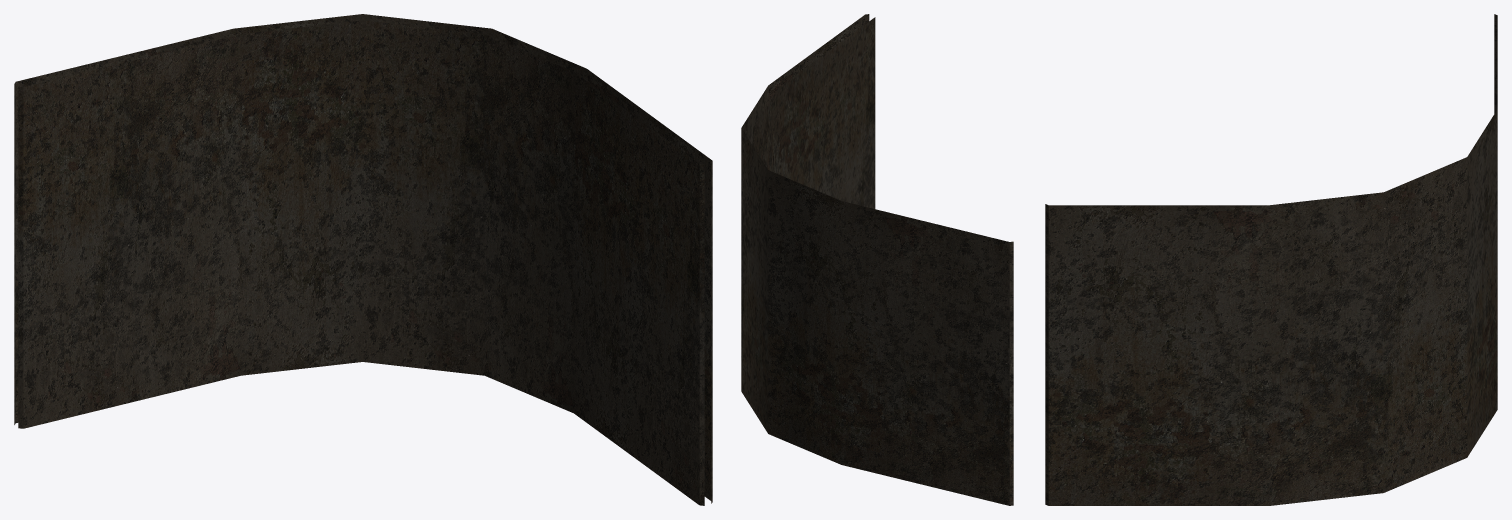
Rendered from wall_1_round.glb.
3 views of the same model, side by side, from view 1: azimuth 30°, elevation 25°; view 2: azimuth 150°, elevation 25°; view 3: azimuth 270°, elevation 25° (orthographic). The views are drawn at different scales.
Parts seen in each view (by area): view 1: wall_1_round; view 2: wall_1_round; view 3: wall_1_round.
Boxes of the visible parts, x1,y1,x2,y2 form: wall_1_round: [14, 14, 712, 505]; wall_1_round: [741, 14, 1013, 505]; wall_1_round: [1045, 14, 1497, 505].
Size of the model in its own units: 4.09 by 3 by 4.09.
1 material, 1 textured.
